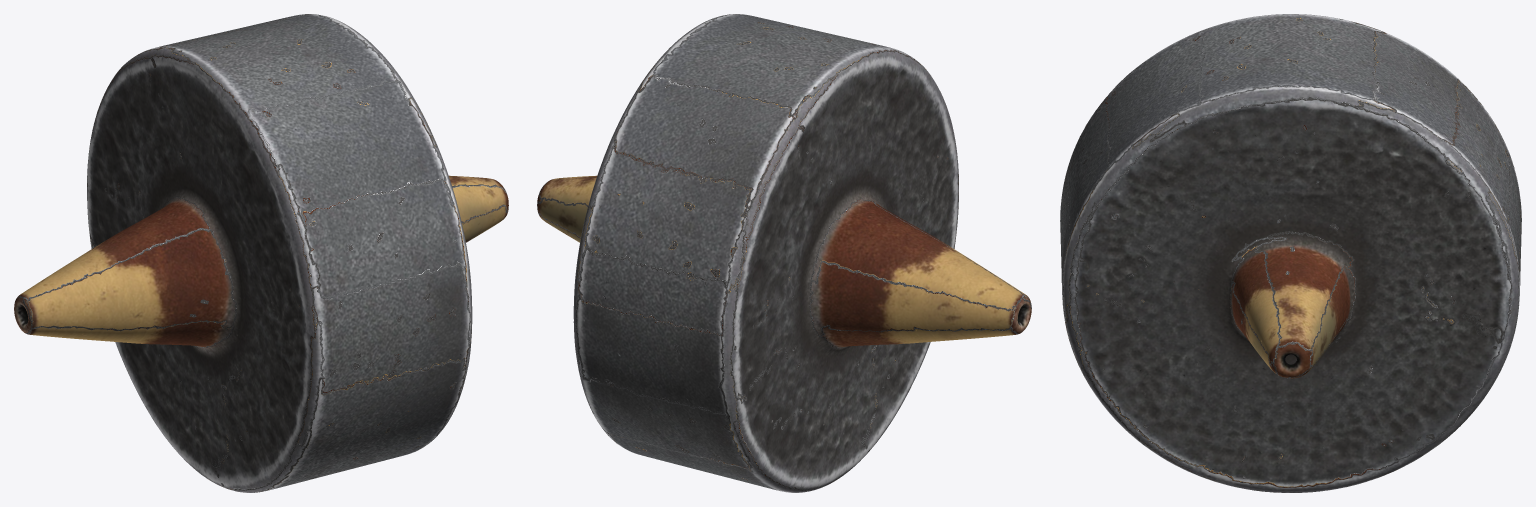
3 renders of one model, left to right at view 1: azimuth 30°, elevation 25°; view 2: azimuth 150°, elevation 25°; view 3: azimuth 270°, elevation 25°, orthographic.
Size of the model in its own units: 2 by 1.64 by 1.68.
1 material, 1 textured.
